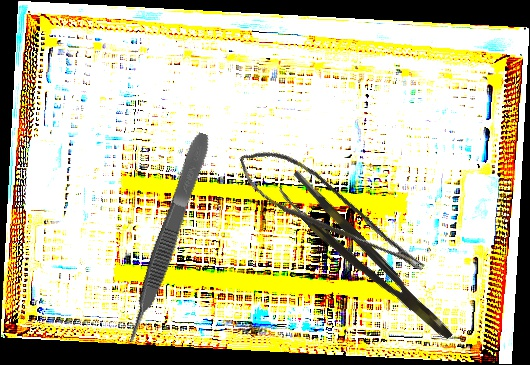Micro Scissor: (228, 129, 430, 303)
Tissue Forceps: (274, 169, 456, 355), (118, 130, 216, 345)
